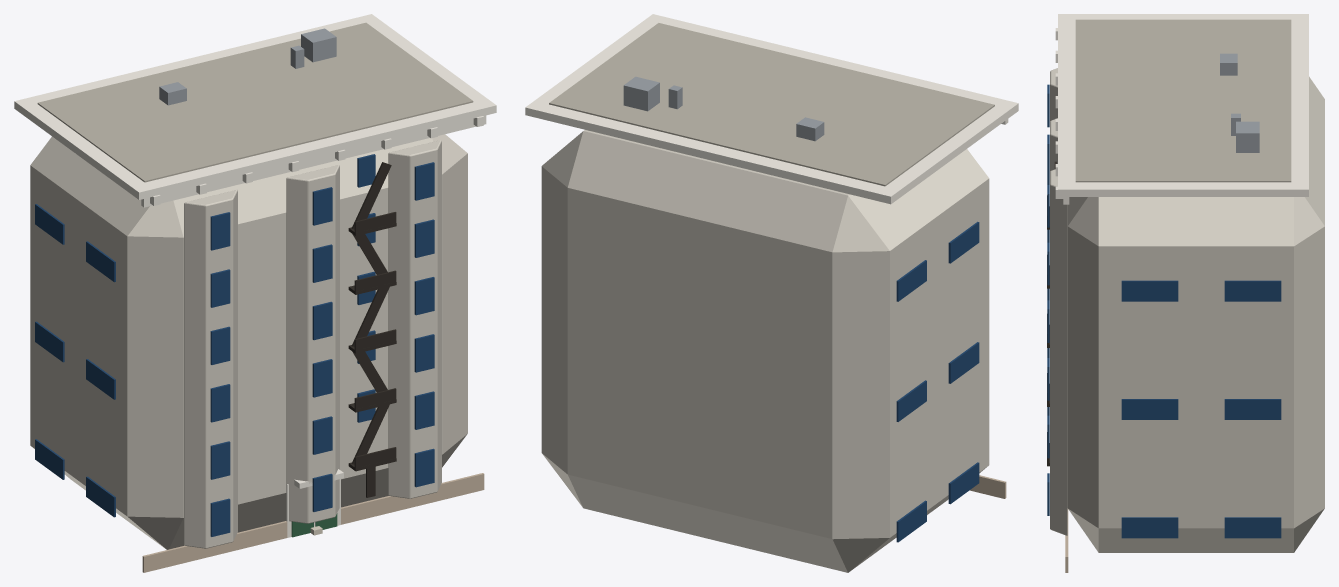
File: aptfe_w20_f6.glb
3 renders of one model, left to right at view 1: azimuth 30°, elevation 25°; view 2: azimuth 150°, elevation 25°; view 3: azimuth 270°, elevation 25°, orthographic. The views are drawn at different scales.
Parts seen in each view (by area): view 1: walls, roofslab, bay, bay.001, bay.002, corn, bsmt, frieze, hvac2, bw.014, bw.002, bw.006 (+24 smaller); view 2: walls, roofslab, corn, hvac2, sb.004, sb.008, sb, sb.006, sb.010, sb.002; view 3: walls, roofslab, corn, bay.002, sb.001, sb.003, sb.009, sb.011, sb.005, sb.007, hvac2, hvac (+1 smaller).
Part boxes in pixels (x1,y1,x2,y2): walls: (30, 134, 467, 549); roofslab: (37, 22, 473, 182); bay: (184, 189, 237, 548); bay.001: (286, 165, 339, 523); bay.002: (388, 140, 441, 498); corn: (14, 14, 496, 199); bsmt: (142, 473, 484, 572); frieze: (141, 115, 486, 207); hvac2: (301, 28, 336, 62); bw.014: (414, 334, 434, 372); bw.002: (210, 384, 230, 422); bw.006: (312, 473, 332, 511); walls: (541, 130, 989, 572); roofslab: (549, 23, 994, 186); corn: (525, 14, 1018, 204); hvac2: (623, 76, 659, 111); sb.004: (948, 342, 979, 383); sb.008: (948, 221, 979, 263); sb: (948, 462, 979, 504); sb.006: (896, 380, 926, 421); sb.010: (896, 260, 926, 301); sb.002: (896, 500, 926, 542); walls: (1067, 76, 1324, 552); roofslab: (1075, 19, 1291, 182); corn: (1058, 14, 1308, 196); bay.002: (1050, 169, 1067, 535); sb.001: (1121, 517, 1178, 538); sb.003: (1224, 517, 1281, 538); sb.009: (1121, 280, 1178, 301); sb.011: (1224, 280, 1281, 301); sb.005: (1121, 399, 1178, 419); sb.007: (1224, 399, 1281, 419); hvac2: (1236, 121, 1259, 152); hvac: (1220, 53, 1237, 75).
Bounding box in the file's own units: 21 × 22.8 × 14.05.
